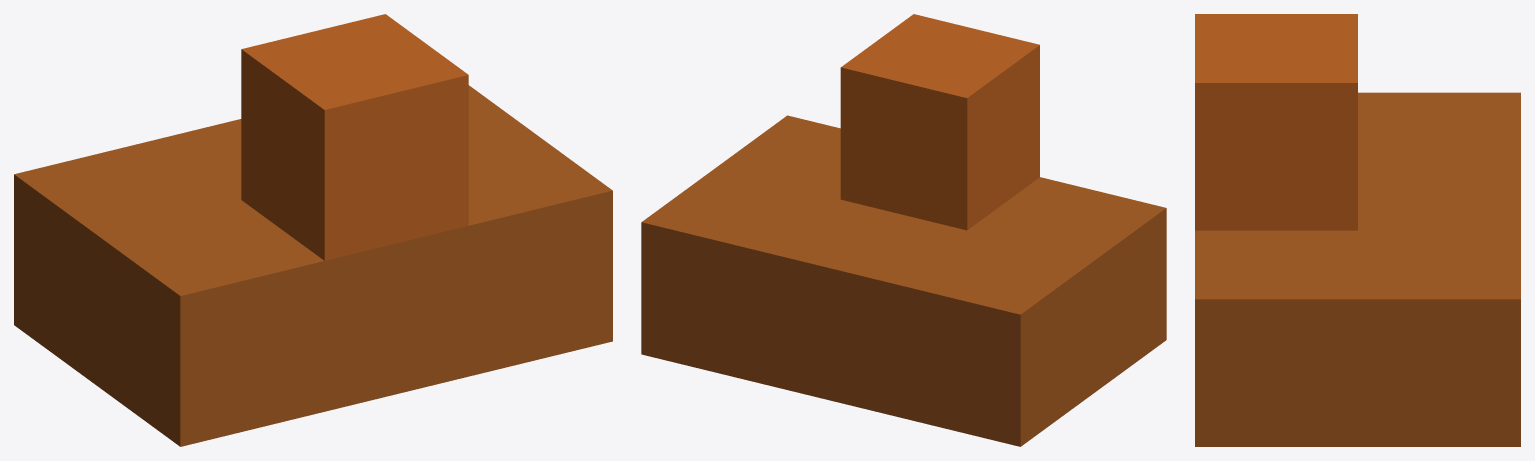
The model's file is foot.glb.
3 renders of one model, left to right at view 1: azimuth 30°, elevation 25°; view 2: azimuth 150°, elevation 25°; view 3: azimuth 270°, elevation 25°, orthographic. The views are drawn at different scales.
Parts seen in each view (by area): view 1: foot; view 2: foot; view 3: foot.
Boxes of the visible parts, x1,y1,x2,y2 form: foot: (14, 14, 612, 446); foot: (641, 14, 1166, 446); foot: (1195, 14, 1520, 446).
Bounding box in the file's own units: 0.375 × 0.25 × 0.25.
